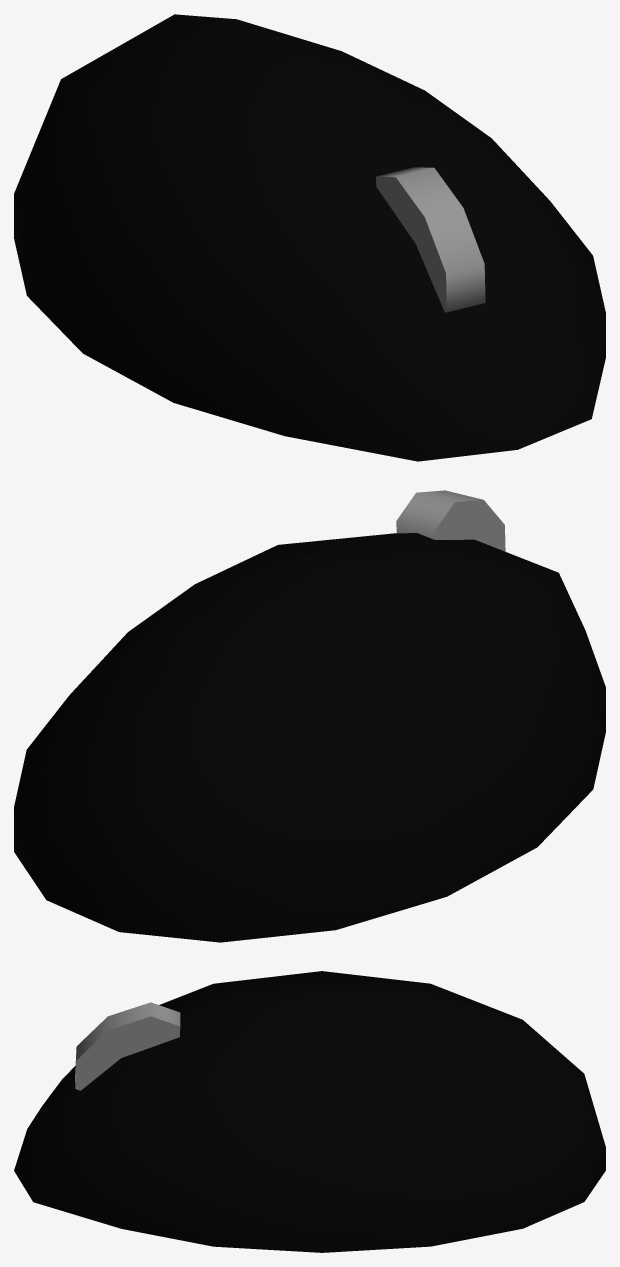
File: SM_Mouse.fbx
The picture shows the model from 3 angles, top to bottom: view 1: azimuth 30°, elevation 25°; view 2: azimuth 150°, elevation 25°; view 3: azimuth 270°, elevation 25°; orthographic projection. The views are drawn at different scales.
Visible parts, largest first — view 1: Mouse; view 2: Mouse; view 3: Mouse.
Part boxes in pixels (x1,y1,x2,y2): Mouse: (14, 14, 605, 461); Mouse: (14, 490, 605, 942); Mouse: (14, 971, 605, 1252).
Size of the model in its own units: 11.48 by 5.63 by 17.45.
1 material, 1 textured.
